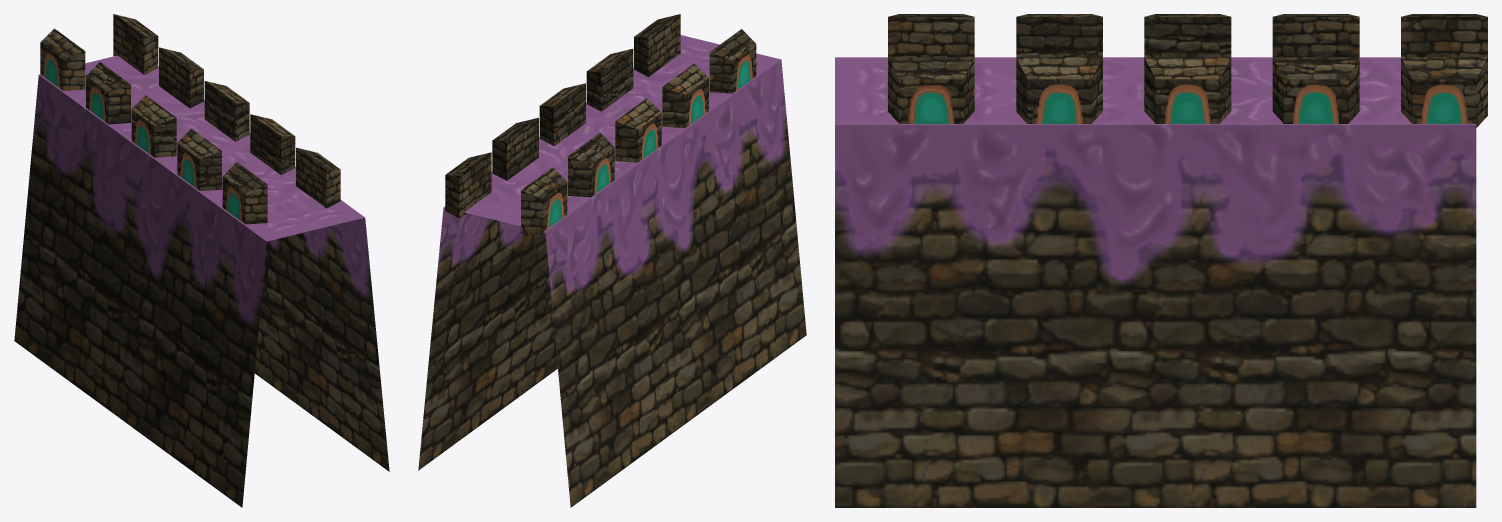
Rendered from 3lvl.FBX.
The picture shows the model from 3 angles, left to right: view 1: azimuth 30°, elevation 25°; view 2: azimuth 150°, elevation 25°; view 3: azimuth 270°, elevation 25°; orthographic projection. The views are drawn at different scales.
Visible parts, largest first — view 1: 3lvl; view 2: 3lvl; view 3: 3lvl.
Part boxes in pixels (x1,y1,x2,y2): 3lvl: [14, 14, 389, 507]; 3lvl: [418, 14, 806, 507]; 3lvl: [835, 14, 1487, 507].
Size of the model in its own units: 3.73 by 7.23 by 10.18.
1 material, 1 textured.
